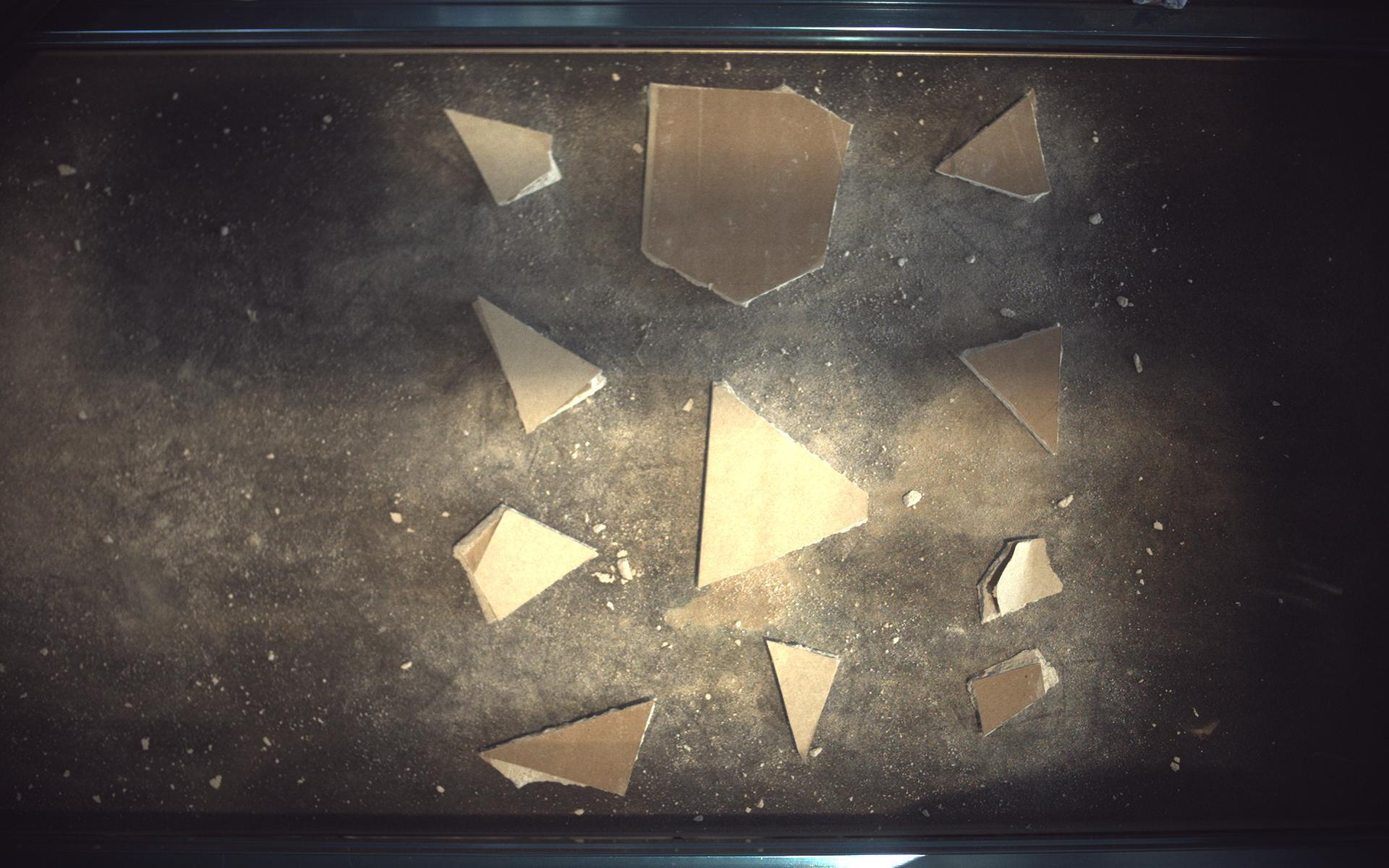gypsum_board: (642, 82, 854, 305), (699, 381, 870, 587), (473, 297, 606, 433), (453, 505, 598, 624), (480, 699, 656, 797), (961, 326, 1063, 454), (938, 88, 1053, 201), (445, 108, 562, 205), (768, 641, 841, 758), (969, 650, 1062, 737), (980, 537, 1066, 624)
